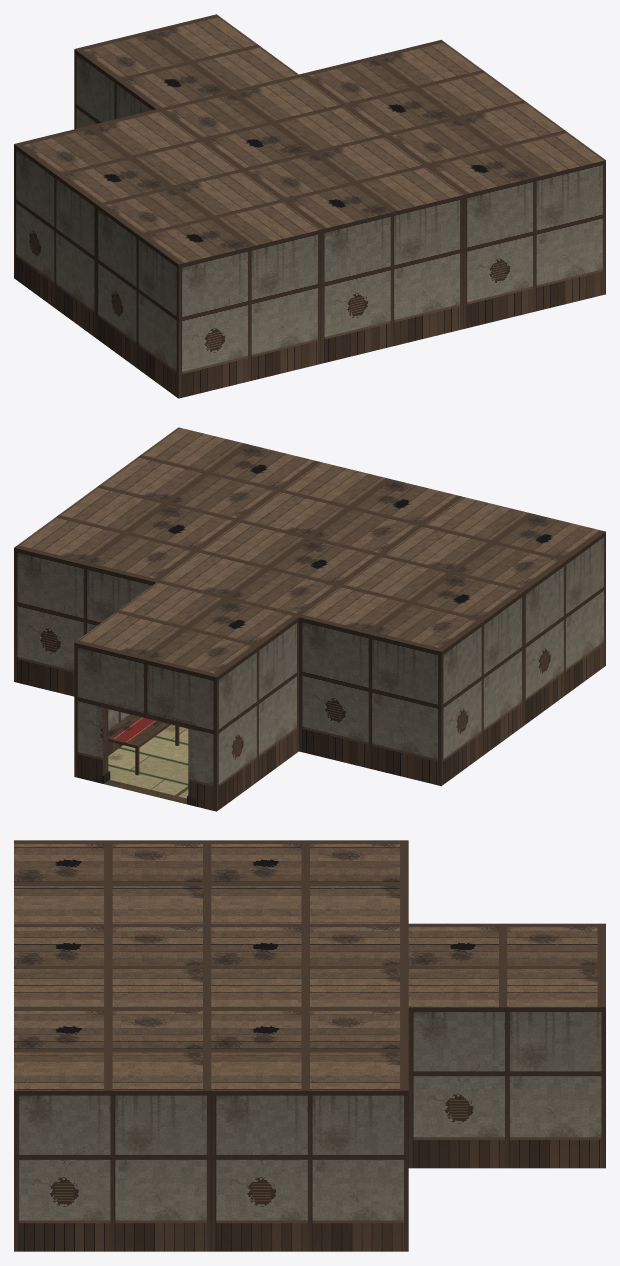
The picture shows the model from 3 angles, top to bottom: view 1: azimuth 30°, elevation 25°; view 2: azimuth 150°, elevation 25°; view 3: azimuth 270°, elevation 25°; orthographic projection. The views are drawn at different scales.
Visible parts, largest first — view 1: -O_A; view 2: -O_A, -O_A_Deco; view 3: -O_A.
Part boxes in pixels (<box>): -O_A: <box>14,14,605,398</box>; -O_A: <box>14,427,605,811</box>; -O_A_Deco: <box>95,771,195,806</box>; -O_A: <box>14,840,605,1251</box>.
Bounding box in the file's own units: 2 × 2 × 0.6.
Materials: 4 (4 with a texture image).
